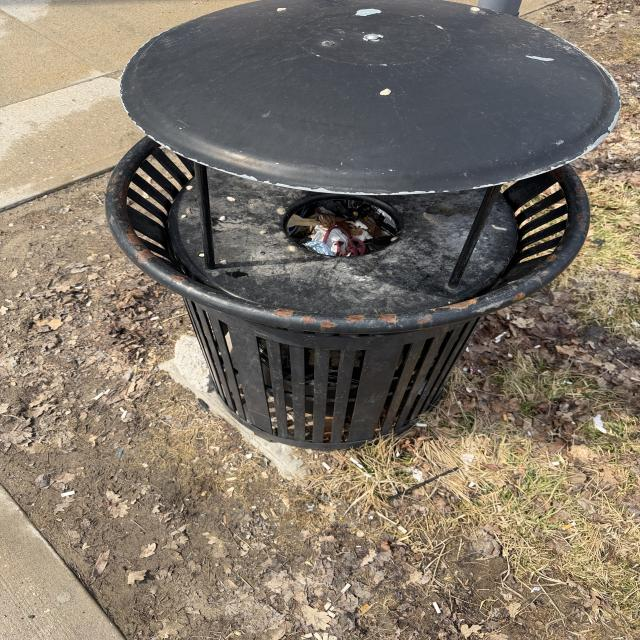Dustbin: (105, 1, 626, 452)
